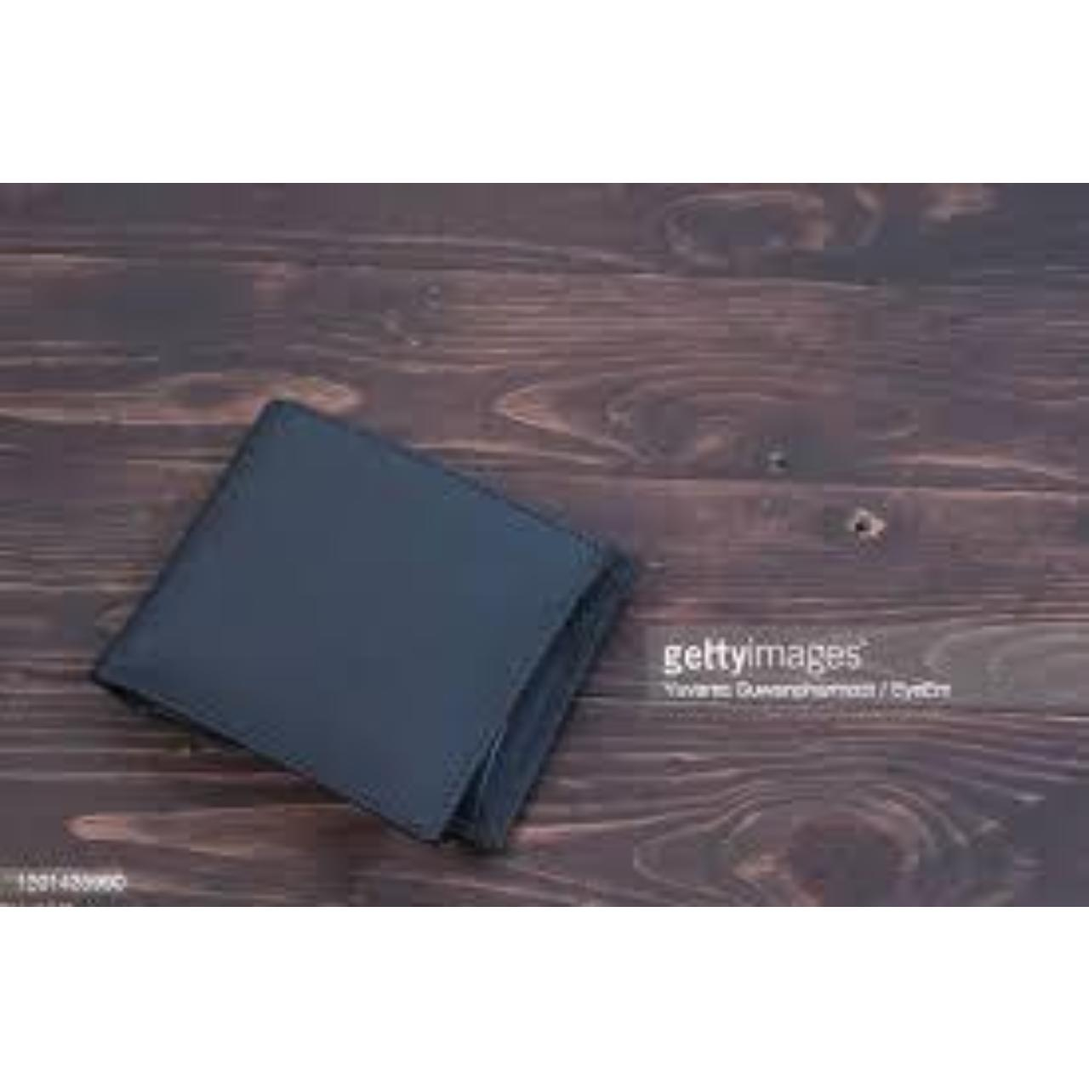wallet: (50, 340, 651, 875)
